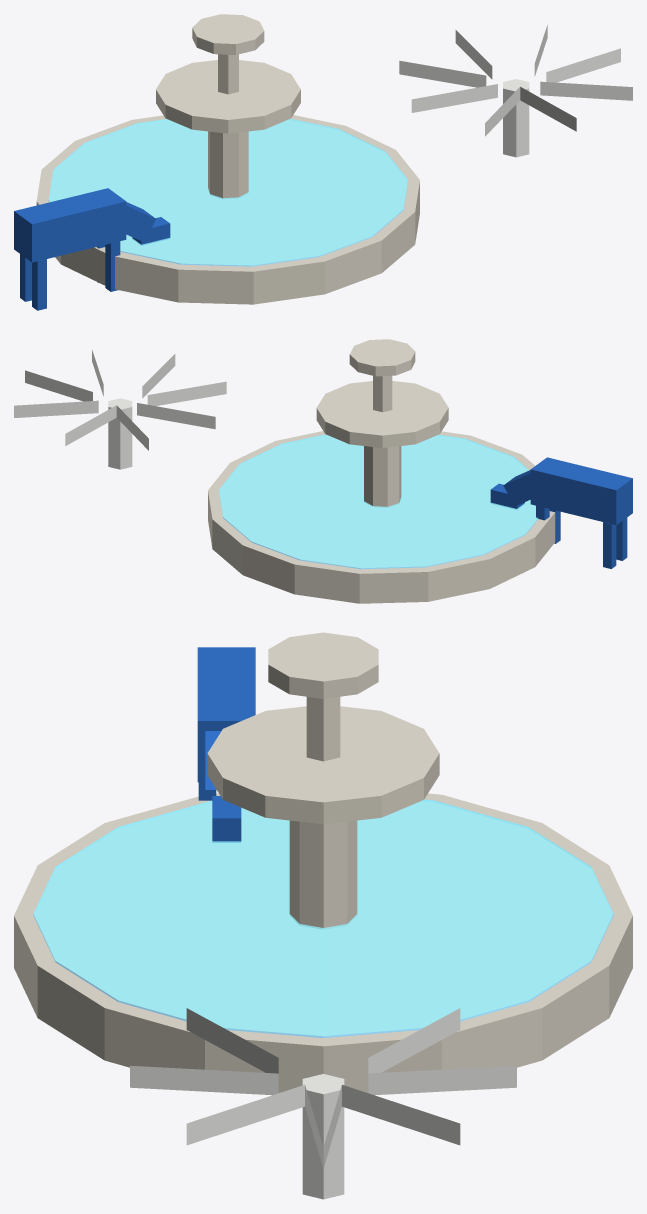
Rendered from bluehorse_fountain.glb.
3 renders of one model, top to bottom at view 1: azimuth 30°, elevation 25°; view 2: azimuth 150°, elevation 25°; view 3: azimuth 270°, elevation 25°, orthographic. The views are drawn at different scales.
Parts seen in each view (by area): view 1: bluehorse_fountain_lod0; view 2: bluehorse_fountain_lod0; view 3: bluehorse_fountain_lod0.
Boxes of the visible parts, x1=… form: bluehorse_fountain_lod0: x1=14, y1=14, x2=632, y2=310; bluehorse_fountain_lod0: x1=14, y1=339, x2=632, y2=603; bluehorse_fountain_lod0: x1=14, y1=632, x2=632, y2=1199.
Size of what is drawn, in the model's own units: 12 by 3.6 by 6.4.
